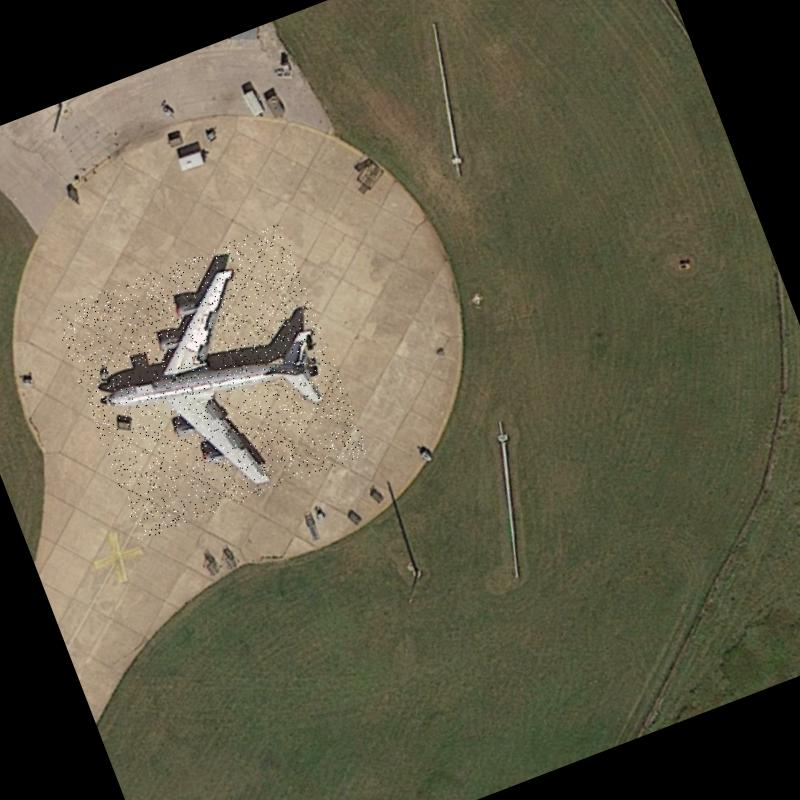A11: (51, 222, 370, 541)
